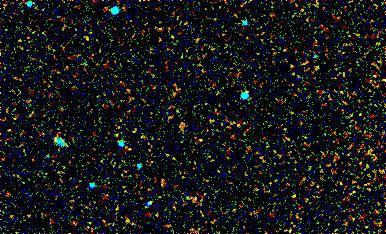star: (182, 127, 212, 157)
